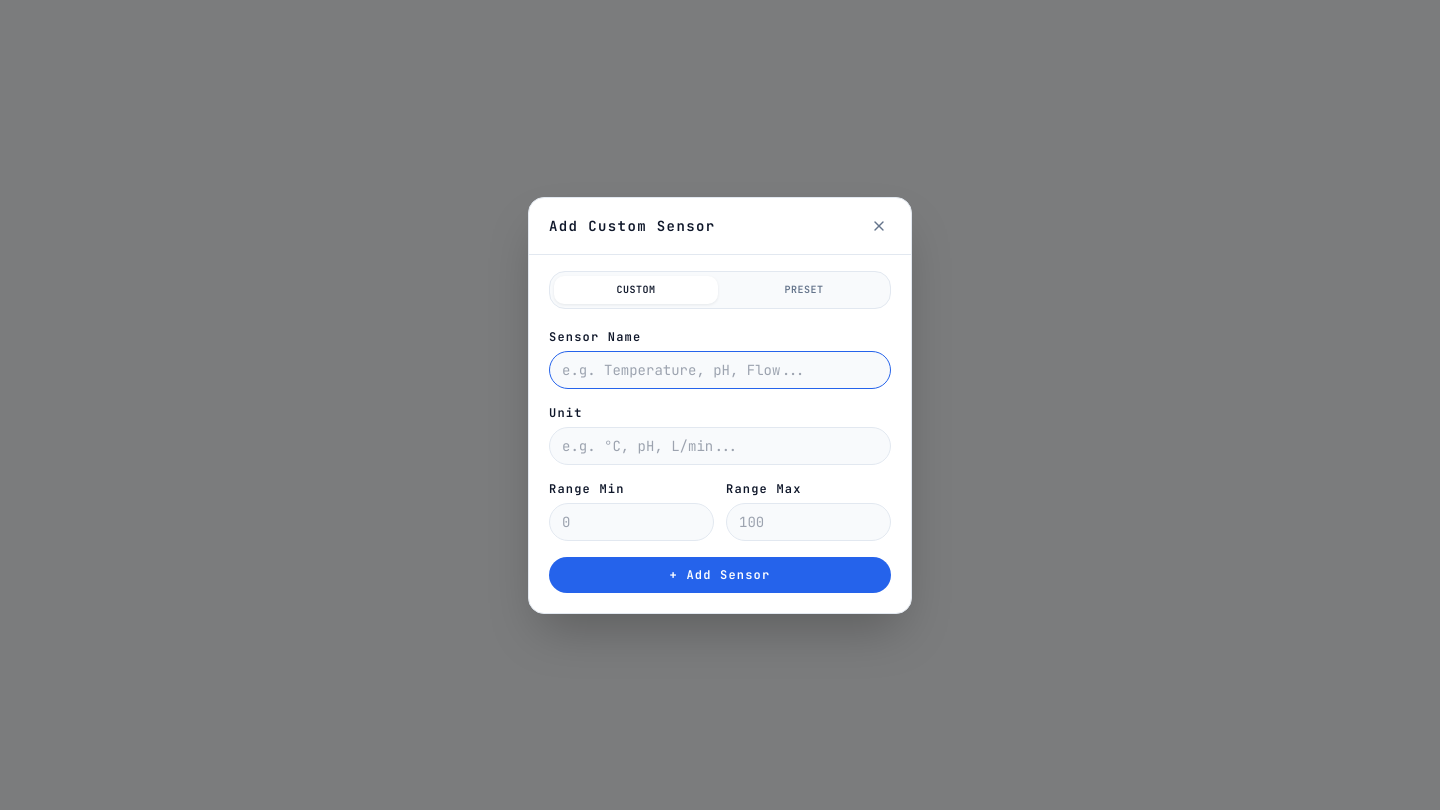
it: AddSensorModal › hides presets that are already added
Click the button "PRESET". click: [804, 290]
box: [722, 276, 886, 304]
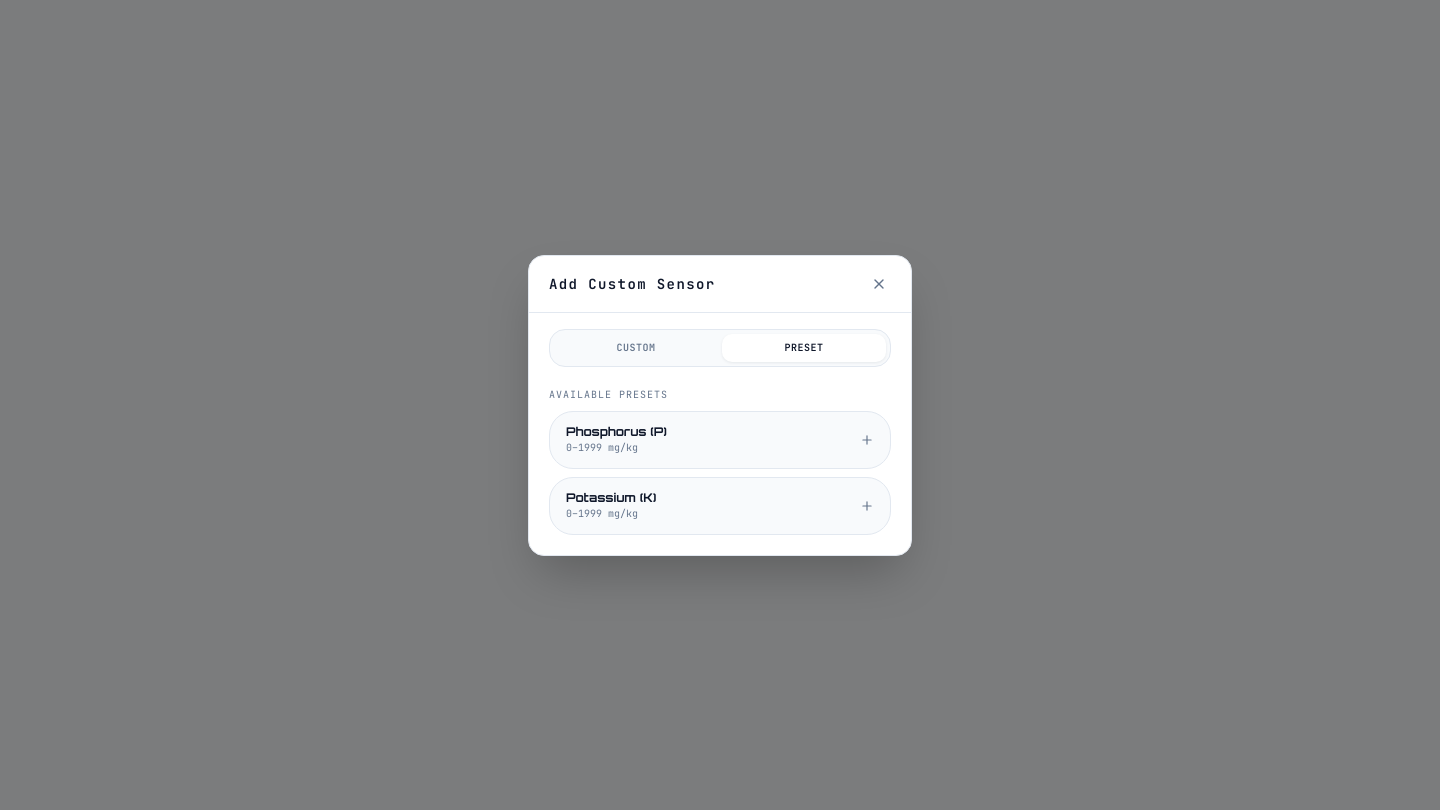
Expected: the text "Phosphorus (P)" is shown, [566, 424, 667, 440]
Expected: the text "Potassium (K)" is shown, [566, 490, 656, 506]
